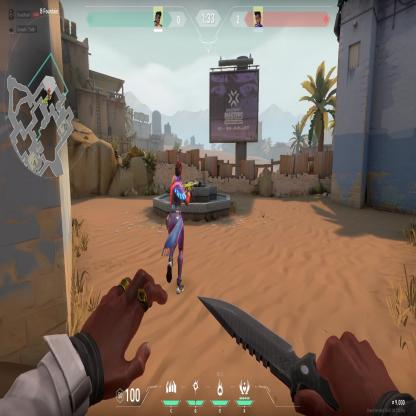enemy: (164, 160, 190, 298)
